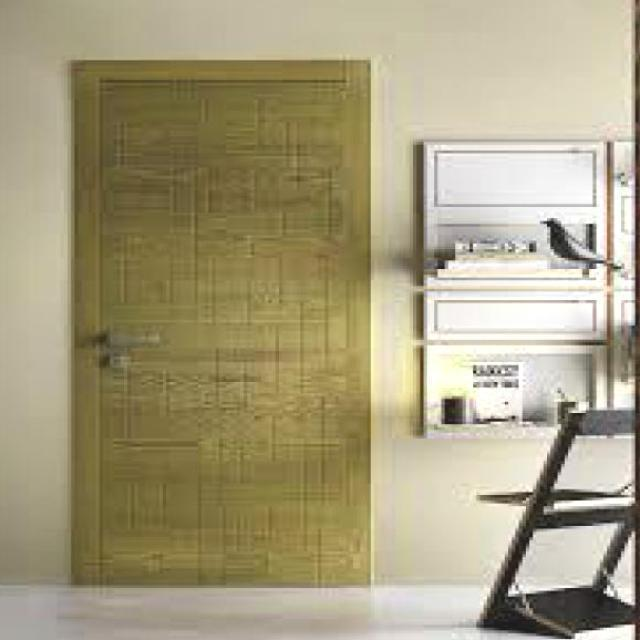door: (70, 59, 372, 588)
